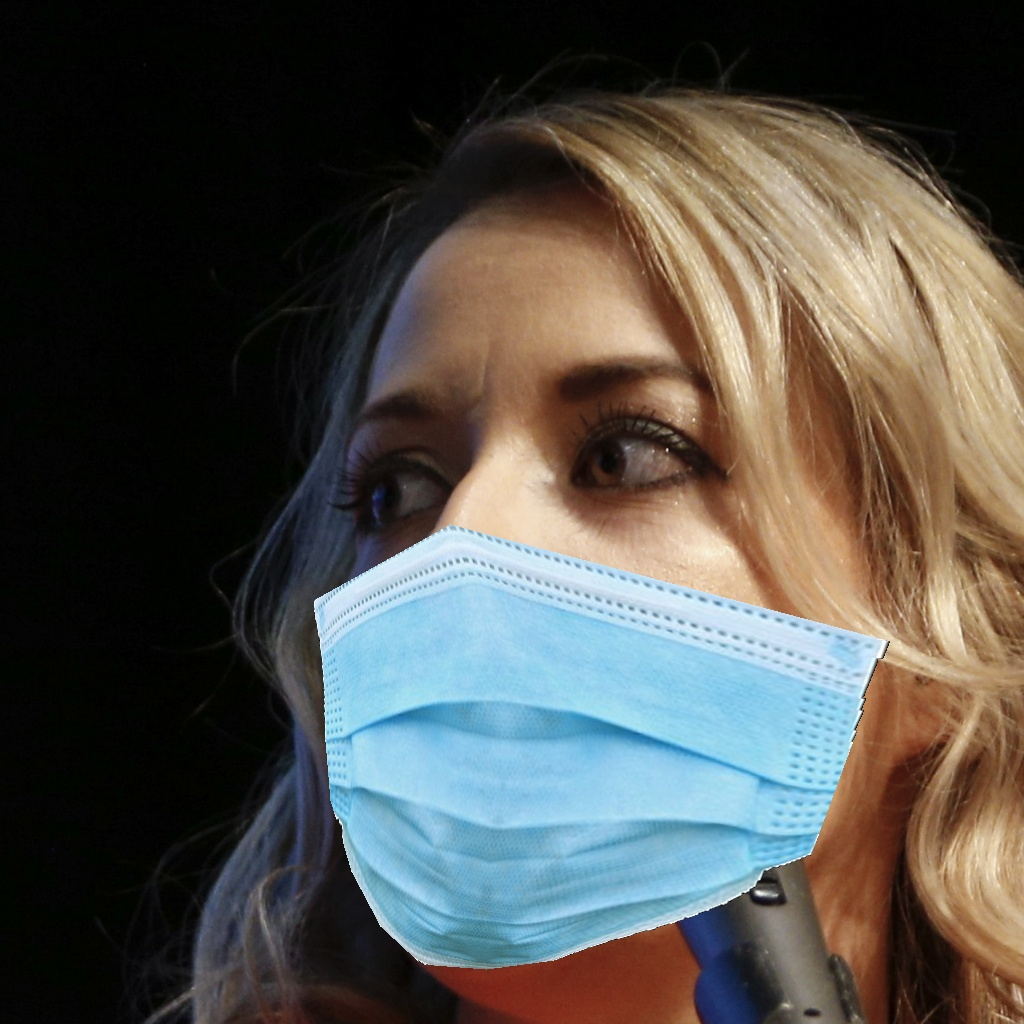Mask: (308, 300, 893, 970)
